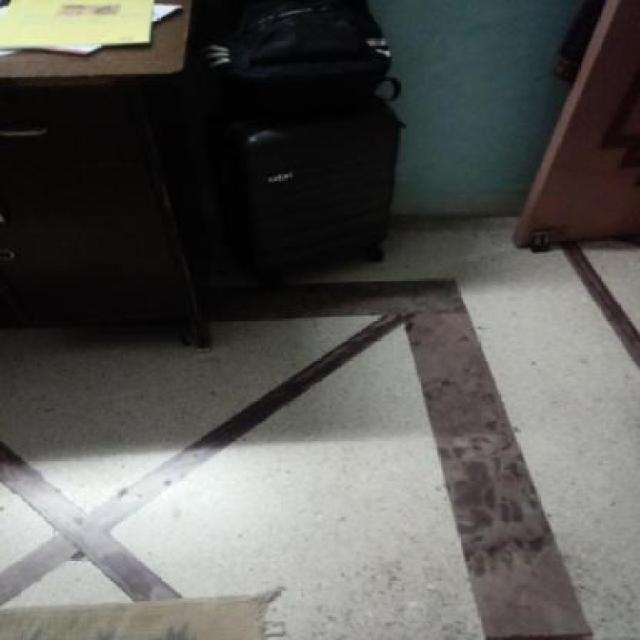backpack: (216, 92, 402, 283)
